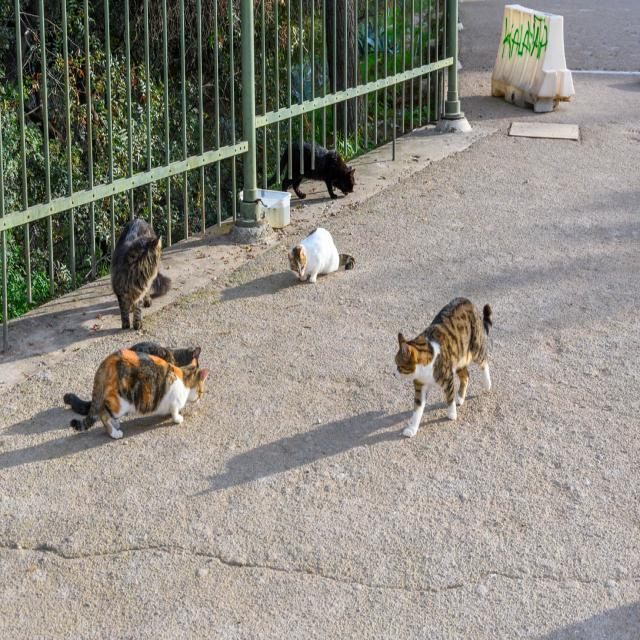cat: (394, 298, 492, 437), (71, 349, 209, 438), (110, 218, 171, 330), (282, 141, 355, 199), (288, 227, 355, 283), (130, 341, 201, 368), (280, 148, 289, 174)
